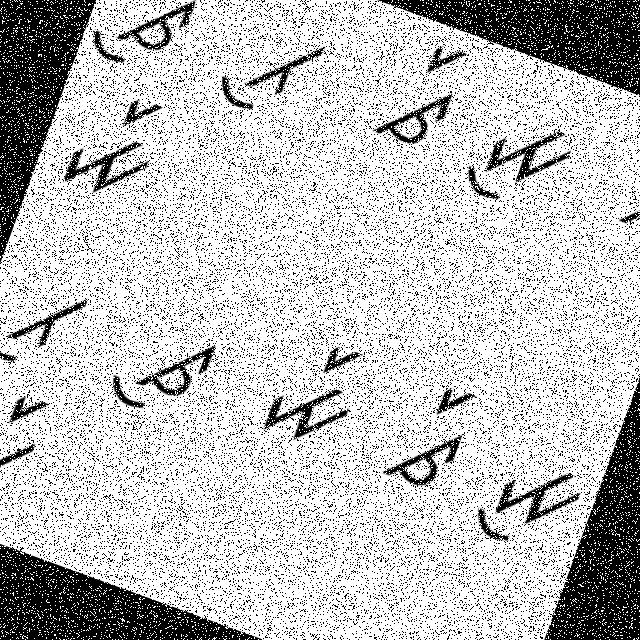bar: (0, 379, 58, 516), (617, 117, 639, 249)
baw: (198, 0, 343, 137), (0, 253, 105, 387)
car: (362, 360, 487, 509), (368, 24, 474, 157)
caw: (94, 299, 227, 438), (77, 0, 201, 92)
mar: (253, 312, 381, 459), (56, 76, 175, 212)
maw: (461, 427, 595, 566), (448, 94, 586, 226)
